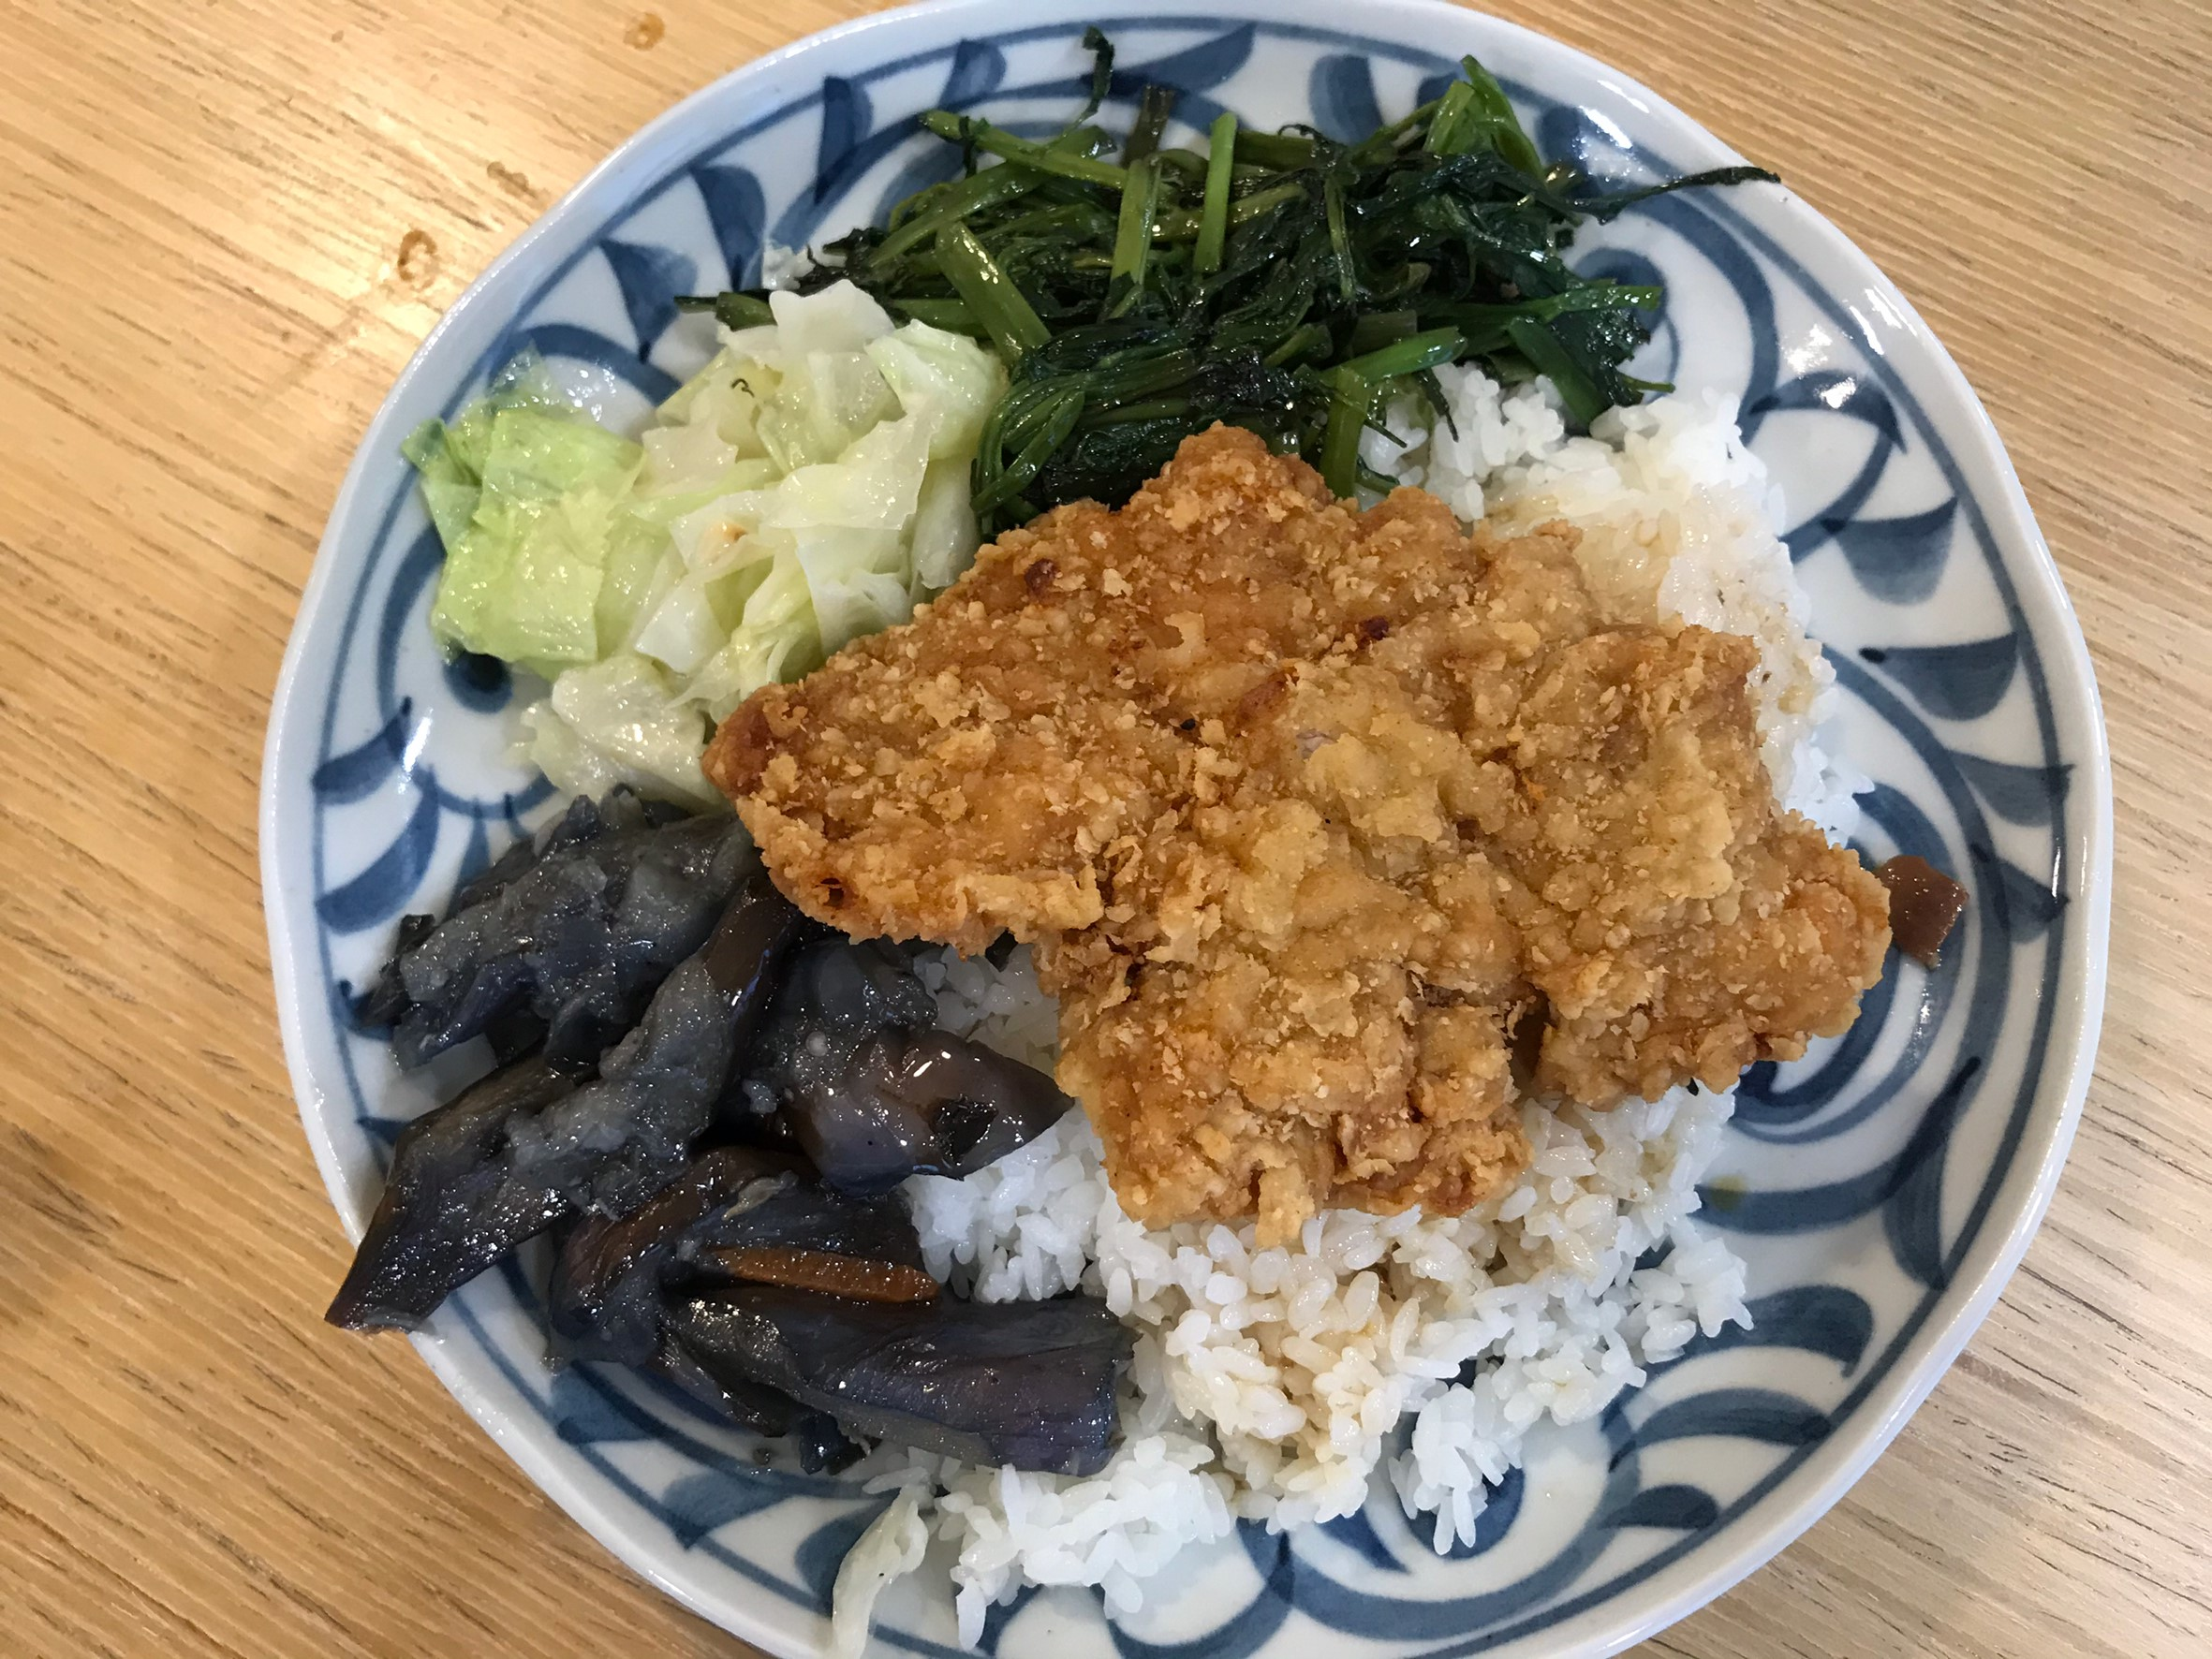chinese_cabbage: (499, 319, 920, 660)
fried_chicken: (746, 448, 1853, 1204)
rice: (1121, 1211, 1687, 1506)
water_spinach: (922, 91, 1584, 457)
